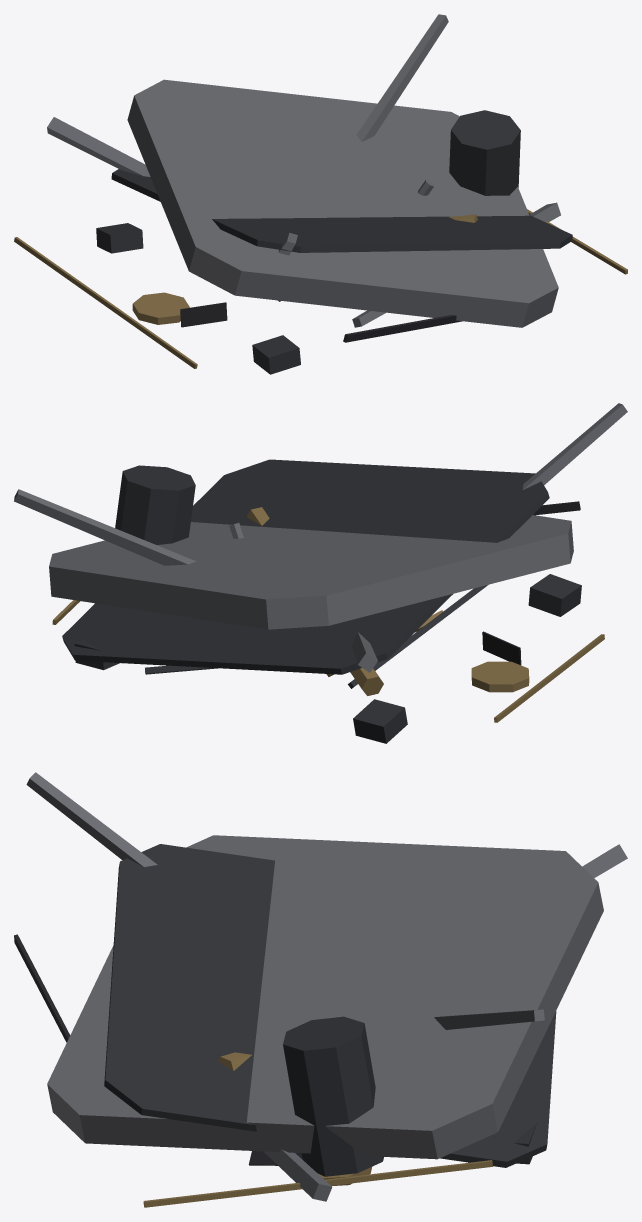
File: Wreck_Aegis_ExtractionRig.fbx
3 views of the same model, one above another, from view 1: azimuth 30°, elevation 25°; view 2: azimuth 150°, elevation 25°; view 3: azimuth 270°, elevation 25° (orthographic). The views are drawn at different scales.
Parts seen in each view (by area): view 1: Wreck_Aegis_ExtractionRig; view 2: Wreck_Aegis_ExtractionRig; view 3: Wreck_Aegis_ExtractionRig.
Part boxes in pixels (x1,y1,x2,y2): Wreck_Aegis_ExtractionRig: (14,14,627,374); Wreck_Aegis_ExtractionRig: (14,403,627,743); Wreck_Aegis_ExtractionRig: (14,772,627,1207).
Bounding box in the file's own units: 3.36 × 1.17 × 3.13.
